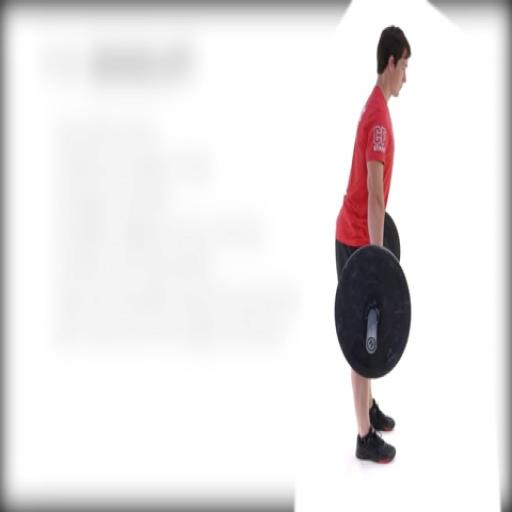exercise: (332, 23, 413, 466)
